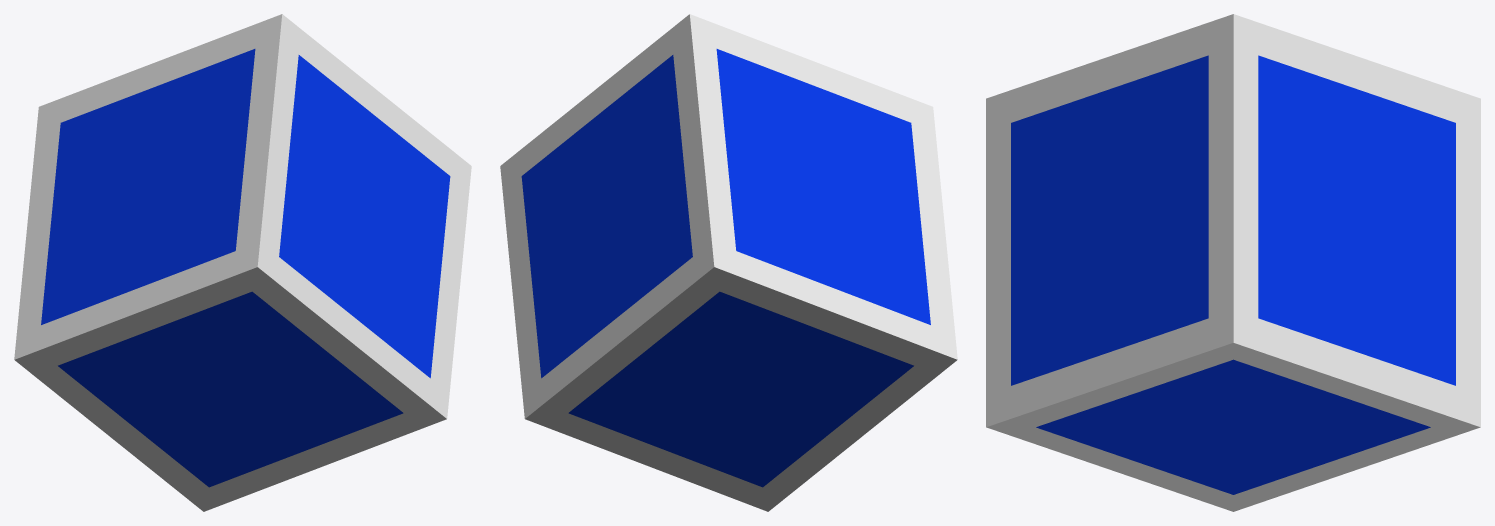
Rendered from box_symbol.glb.
The picture shows the model from 3 angles, left to right: view 1: azimuth 30°, elevation 25°; view 2: azimuth 150°, elevation 25°; view 3: azimuth 270°, elevation 25°; orthographic projection. The views are drawn at different scales.
Visible parts, largest first — view 1: Cube, Cube.001; view 2: Cube, Cube.001; view 3: Cube, Cube.001.
Part boxes in pixels (box(x1,y1,x2,y2)): Cube: box(41, 49, 450, 487); Cube.001: box(14, 14, 471, 511); Cube: box(521, 49, 930, 487); Cube.001: box(500, 14, 957, 511); Cube: box(1011, 55, 1455, 494); Cube.001: box(986, 14, 1480, 511).
Bounding box in the file's own units: 3.45 × 3.45 × 2.86.
